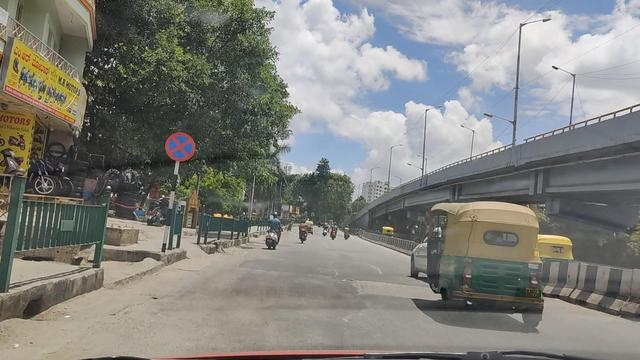LMV: (432, 195, 542, 323), (267, 212, 279, 247), (298, 218, 307, 243), (330, 219, 337, 241)
RoadDamages: (342, 274, 431, 295), (324, 264, 339, 278), (367, 262, 384, 273)
